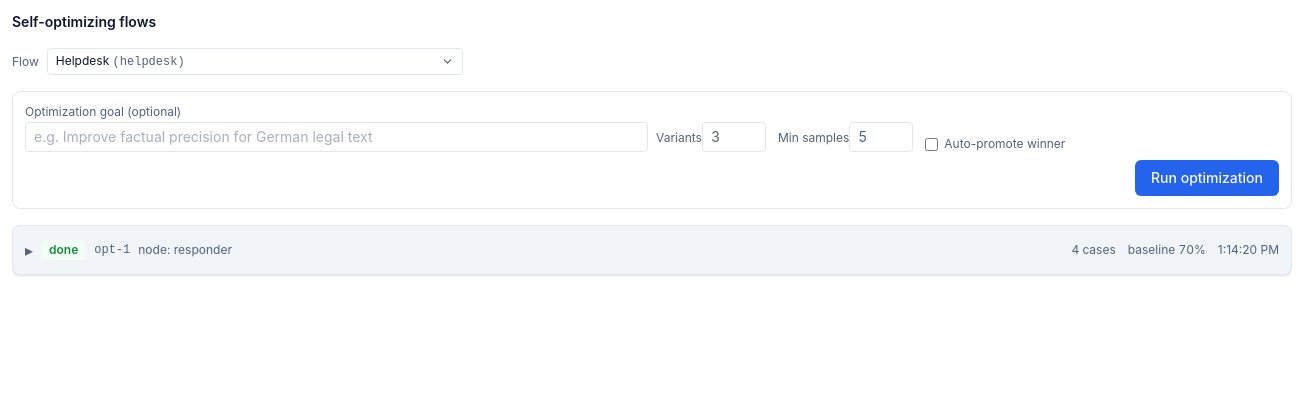
Test: OptimizerPanel › renders a run with baseline + variant scores
Expected: the text "baseline 70%" is shown, [1128,242,1206,258]
Variant detail is revealed on expanding the (collapsed-by-default) run card.
Click the text "done".
click(64, 250)  # box [41,240,86,260]
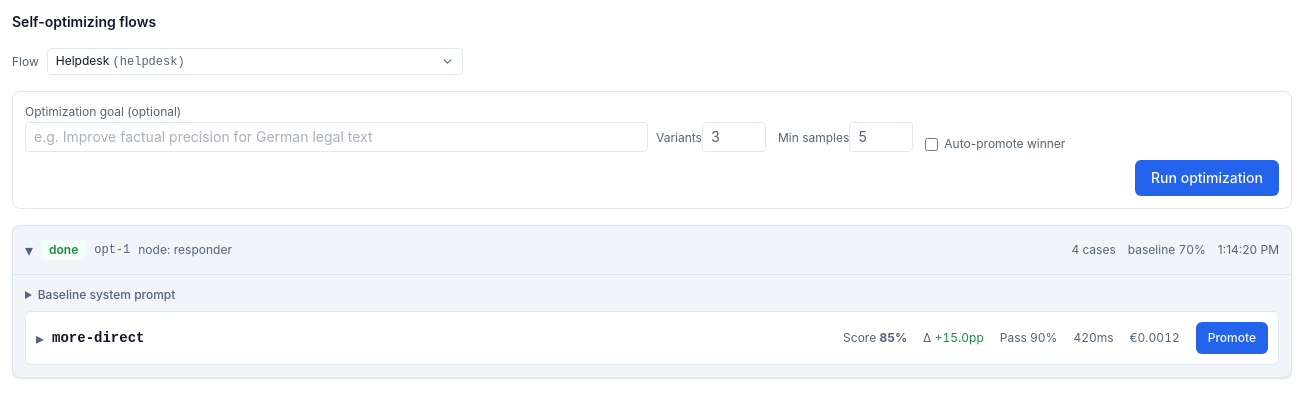
Now the text "more-direct" is shown, box [52,328,144,348]
